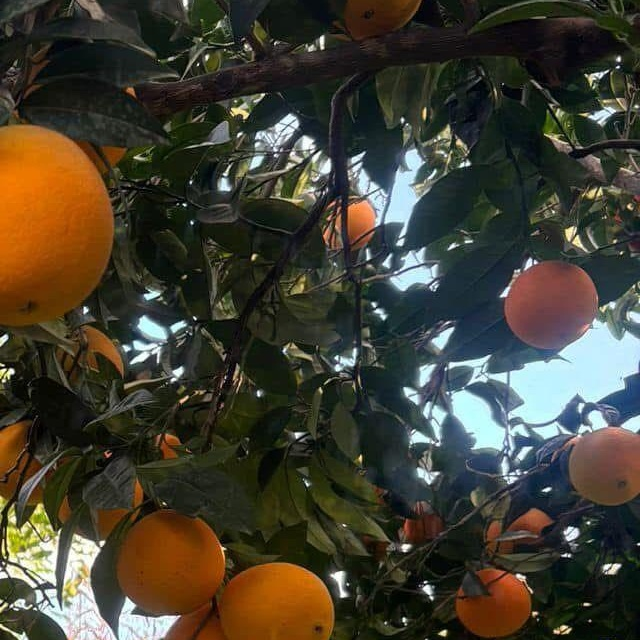orange: (0, 107, 126, 317), (28, 39, 158, 183), (107, 503, 219, 615), (500, 248, 604, 356), (221, 557, 339, 640), (59, 448, 149, 538), (562, 417, 640, 509), (467, 493, 569, 561), (372, 483, 440, 567), (456, 564, 530, 640), (151, 593, 263, 640), (0, 415, 61, 501), (56, 322, 128, 392), (313, 0, 425, 36), (137, 417, 201, 471), (325, 192, 381, 250)
